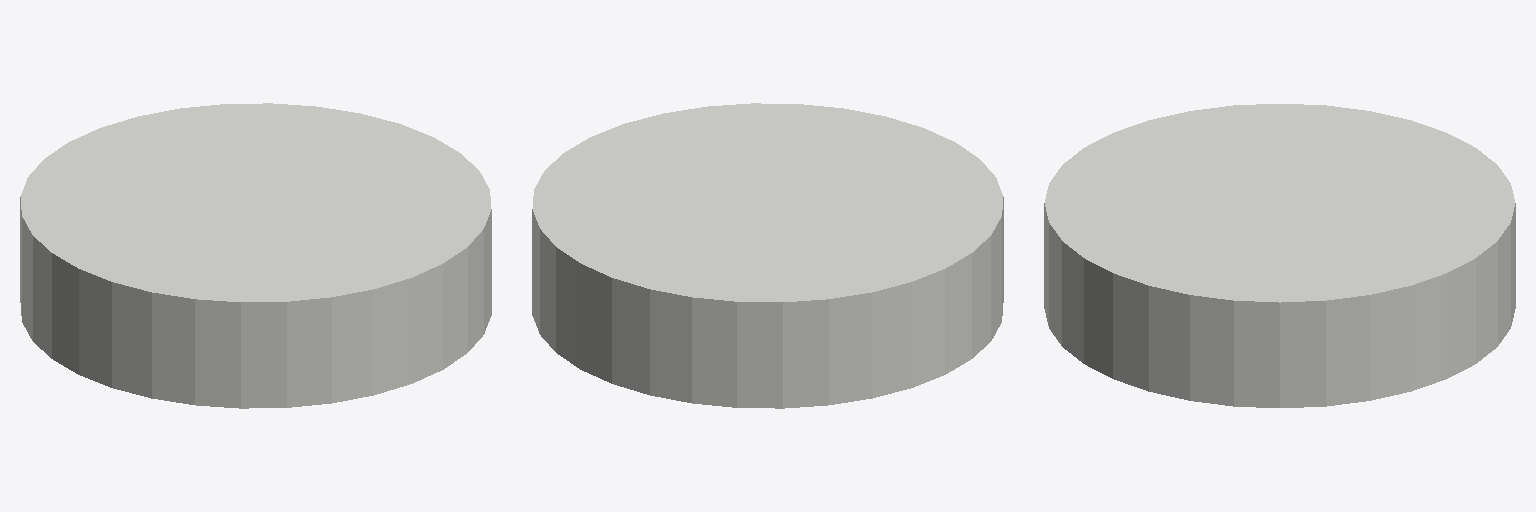
The robot description file, URDF, robot "turntable":
<?xml version="1.0"?>
<!-- turntable: cylinder, diameter 137 mm, height 34 mm (measured; the housing is
     modelled as one cylinder). Origin = centre of its bottom face, standing on the table;
     "top" = centre of the top face, where the base plate is put. -->
<robot name="turntable">
  <material name="turntable_white"><color rgba="0.88 0.88 0.86 1.0"/></material>
  <link name="turntable_link">
    <visual>
      <origin xyz="0 0 0.017"/>
      <geometry><cylinder radius="0.0685" length="0.034"/></geometry>
      <material name="turntable_white"/>
    </visual>
    <collision>
      <origin xyz="0 0 0.017"/>
      <geometry><cylinder radius="0.0685" length="0.034"/></geometry>
    </collision>
  </link>
  <link name="top"/>
  <joint name="turntable_link_to_top" type="fixed">
    <parent link="turntable_link"/><child link="top"/>
    <origin xyz="0 0 0.034"/>
  </joint>
</robot>

--- Render facts (derived) ---
3 views of the same robot in one strip: view 1: azimuth 30°, elevation 25°; view 2: azimuth 150°, elevation 25°; view 3: azimuth 270°, elevation 25° (orthographic).
Model turntable with 2 links and 1 joints (1 fixed), rooted at turntable_link, posed every joint at zero.
Links seen in each view (by area): view 1: turntable_link; view 2: turntable_link; view 3: turntable_link.
Link boxes in pixels (x1,y1,x2,y2): turntable_link: (20, 103, 491, 408); turntable_link: (532, 103, 1003, 408); turntable_link: (1044, 104, 1515, 407).
Bounding box of the posed robot: 0.137 × 0.137 × 0.034 m (x, y, z).
Geometry: primitives only (box / cylinder / sphere), no mesh files.
